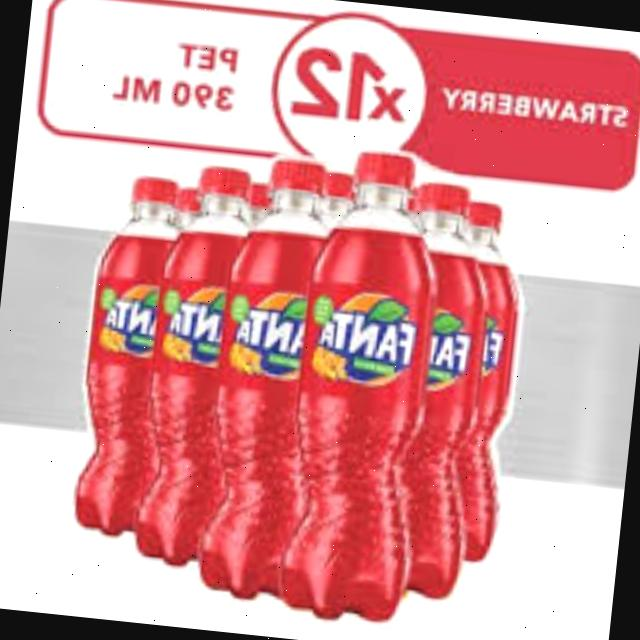trash: (272, 145, 450, 630), (195, 156, 342, 604), (353, 175, 503, 608), (128, 161, 262, 573), (399, 191, 534, 572), (61, 166, 188, 539)
